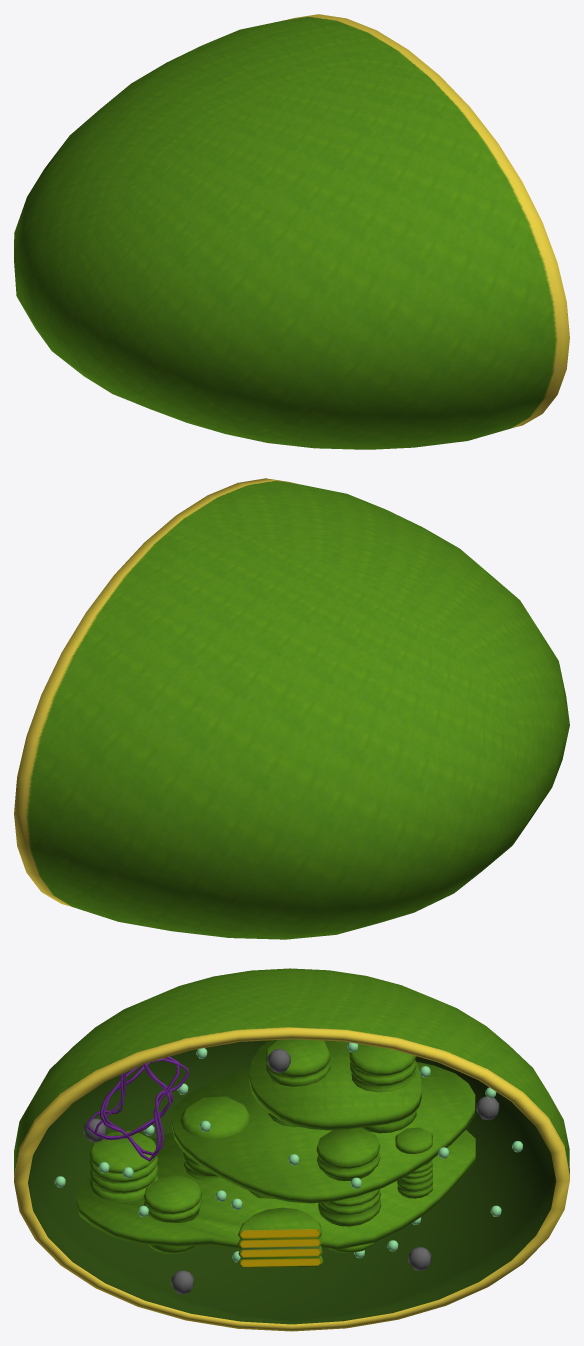
File: Plastida.fbx
3 views of the same model, one above another, from view 1: azimuth 30°, elevation 25°; view 2: azimuth 150°, elevation 25°; view 3: azimuth 270°, elevation 25° (orthographic). The views are drawn at different scales.
Visible parts, largest first — view 1: Kloroplas.001; view 2: Kloroplas.001; view 3: Kloroplas.001.
Boxes of the visible parts, x1,y1,x2,y2 form: Kloroplas.001: (14, 14, 569, 449); Kloroplas.001: (14, 478, 569, 939); Kloroplas.001: (14, 968, 569, 1331).
Bounding box in the file's own units: 134 × 125 × 210.
